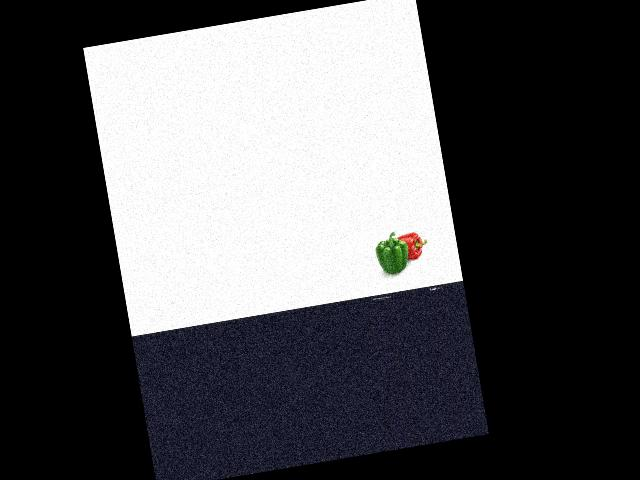bell_pepper: (395, 226, 429, 261)
